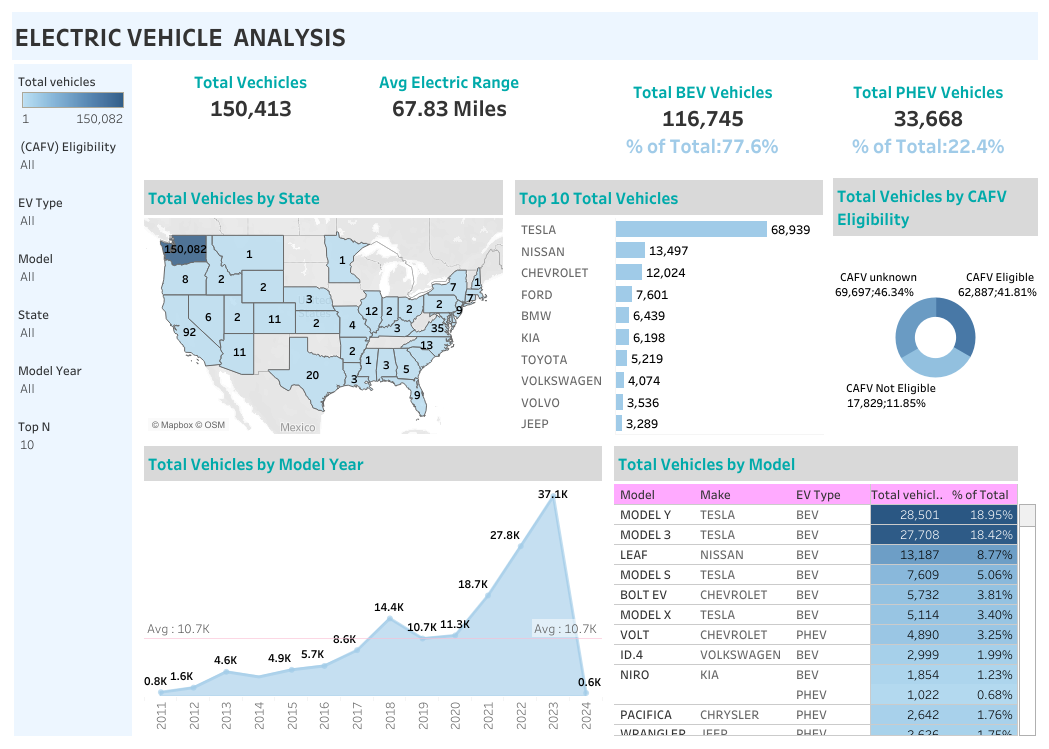

The dashboard page shown, as its layout file describes it:
{"tool":"tableau","page":{"name":"Dashboard 1","canvas":[1050,750],"ordinal":0},"visuals":[{"type":"title","box":[8,8,1034,56.2]},{"type":"worksheet","title":"Total Vehicles","mark":"Automatic","box":[138,64,226,110]},{"type":"worksheet","title":"Avg Electric Range","mark":"Automatic","box":[364,64,226,110]},{"type":"worksheet","title":"Total BEV Vehicles","mark":"Automatic","box":[590,64,226,110]},{"type":"worksheet","title":"Total PHEV Vehicles ","mark":"Automatic","box":[816,64,226,110]},{"type":"legend","title":"Total Vehicles by State","param":"[federated.0fcjv1x09td01z11hqzqz01fvvlj].[usr:Calculation_524669399103545345:qk]","box":[14,64.2,118,65]},{"type":"filter","title":"Total Vehicles by Model Year","param":"[federated.0fcjv1x09td01z11hqzqz01fvvlj].[none:Clean Alternative Fuel Vehicle (C","box":[14,129.2,118,52]},{"type":"worksheet","title":"Total Vehicles by State","mark":"Multipolygon","box":[138,174.2,371,266]},{"type":"worksheet","title":"Top 10 Total Vehicles","mark":"Automatic","rows":["Make"],"cols":["Calculation_524669399103545345"],"box":[509,174.2,320,266]},{"type":"worksheet","title":"Total Vehicles by CAFV Eligibility","mark":"Pie","rows":["Calculation_524669399422758920","Calculation_524669399422758920"],"box":[829,174.2,213,266]},{"type":"filter","title":"Total Vehicles by Model Year","param":"[federated.0fcjv1x09td01z11hqzqz01fvvlj].[none:Electric Vehicle Type:nk]","box":[14,181.2,118,52]},{"type":"filter","title":"Total Vehicles by Model Year","param":"[federated.0fcjv1x09td01z11hqzqz01fvvlj].[none:Model:nk]","box":[14,233.2,118,52]},{"type":"filter","title":"Total Vehicles by Model Year","param":"[federated.0fcjv1x09td01z11hqzqz01fvvlj].[none:State:nk]","box":[14,285.3,118,52]},{"type":"filter","title":"Total Vehicles by Model Year","param":"[federated.0fcjv1x09td01z11hqzqz01fvvlj].[none:Model Year:ok]","box":[14,337.3,118,52]},{"type":"parameter","param":"[Parameters].[Parameter 1]","box":[14,389.3,118,52]},{"type":"worksheet","title":"Total Vehicles by Model Year","mark":"Area","rows":["Calculation_524669399103545345","Calculation_524669399103545345"],"cols":["Model Year"],"box":[138,440.2,470,301.8]},{"type":"worksheet","title":"Total Vehicles by Model","mark":"Square","rows":["Model","Make","Electric Vehicle Type"],"box":[608,440.2,434,301.8]}]}

Visuals, with their boxes in screenshot pixels (x1, y1, x2, y2), scaled from the page's 1050x750 canvas onto the 1049x749 screenshot:
title: crop(8, 8, 1041, 64)
"Total Vehicles" worksheet: crop(138, 64, 364, 174)
"Avg Electric Range" worksheet: crop(364, 64, 589, 174)
"Total BEV Vehicles" worksheet: crop(589, 64, 815, 174)
"Total PHEV Vehicles " worksheet: crop(815, 64, 1041, 174)
"Total Vehicles by State" legend: crop(14, 64, 132, 129)
"Total Vehicles by Model Year" filter: crop(14, 129, 132, 181)
"Total Vehicles by State" worksheet (Multipolygon marks): crop(138, 174, 509, 440)
"Top 10 Total Vehicles" worksheet: crop(509, 174, 828, 440)
"Total Vehicles by CAFV Eligibility" worksheet (Pie marks): crop(828, 174, 1041, 440)
"Total Vehicles by Model Year" filter: crop(14, 181, 132, 233)
"Total Vehicles by Model Year" filter: crop(14, 233, 132, 285)
"Total Vehicles by Model Year" filter: crop(14, 285, 132, 337)
"Total Vehicles by Model Year" filter: crop(14, 337, 132, 389)
parameter: crop(14, 389, 132, 441)
"Total Vehicles by Model Year" worksheet (Area marks): crop(138, 440, 607, 741)
"Total Vehicles by Model" worksheet (Square marks): crop(607, 440, 1041, 741)
